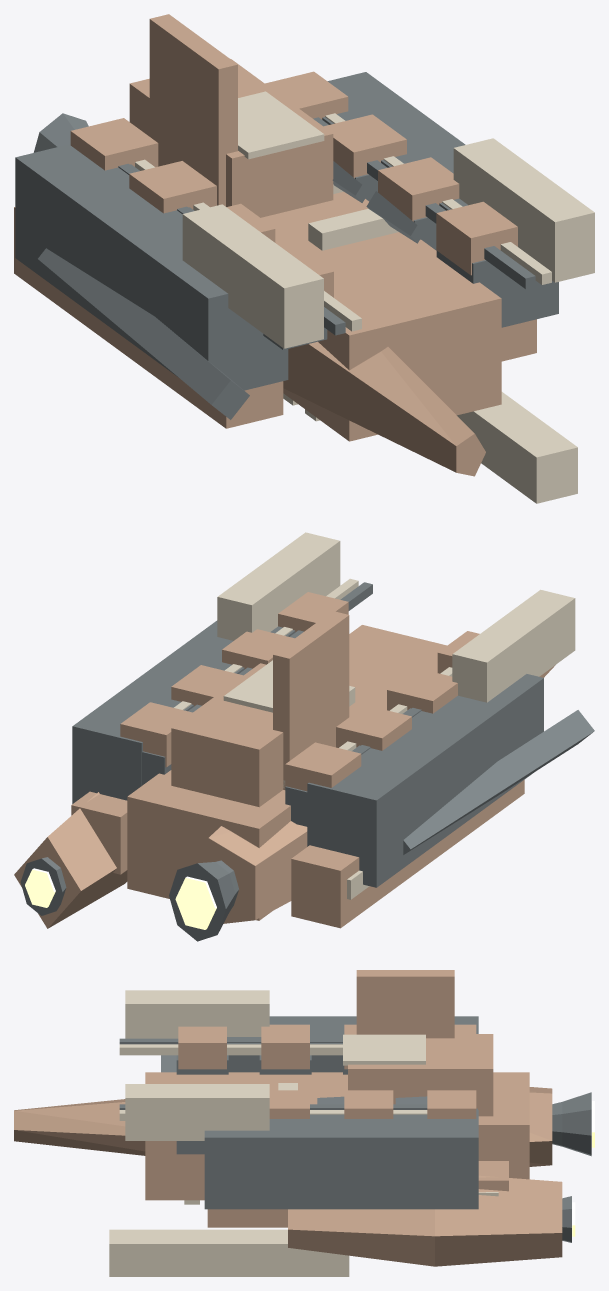
3 renders of one model, top to bottom at view 1: azimuth 30°, elevation 25°; view 2: azimuth 150°, elevation 25°; view 3: azimuth 270°, elevation 25°, orthographic. The views are drawn at different scales.
Size of the model in its own units: 12.52 by 10.31 by 22.38.
